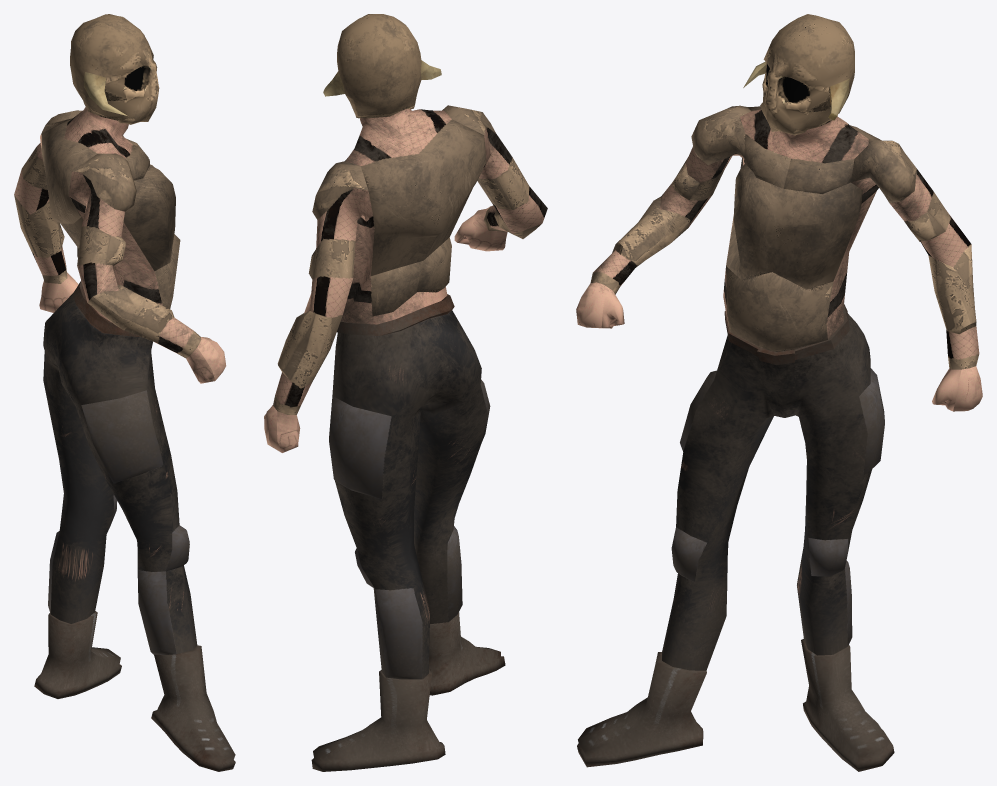
Rendered from Anim_ataque_f3_npc1.0039.obj.
3 views of the same model, side by side, from view 1: azimuth 30°, elevation 25°; view 2: azimuth 150°, elevation 25°; view 3: azimuth 270°, elevation 25° (orthographic). The views are drawn at different scales.
Visible parts, largest first — view 1: NPC2; view 2: NPC2; view 3: NPC2.
Part boxes in pixels (bbox=[...]): NPC2: bbox=[14, 14, 235, 771]; NPC2: bbox=[264, 14, 547, 771]; NPC2: bbox=[576, 14, 982, 771].
Bounding box in the file's own units: 2.06 × 9.7 × 4.85.
